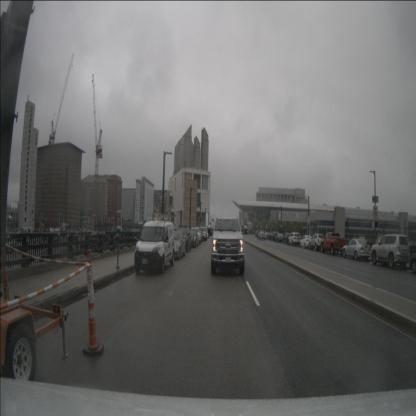movable_object-trafficcone: (82, 249, 104, 357)
vehicle-car: (134, 220, 175, 275), (370, 234, 410, 269), (342, 239, 370, 261), (165, 231, 185, 259), (308, 233, 326, 251), (187, 229, 199, 248), (288, 232, 302, 246), (300, 235, 314, 248), (191, 227, 201, 244), (409, 253, 416, 274), (198, 226, 206, 241), (195, 227, 203, 242), (283, 233, 292, 244), (274, 233, 284, 242), (258, 231, 266, 240), (271, 232, 278, 240), (268, 233, 274, 240), (256, 230, 262, 237), (265, 232, 270, 240)
vehicle-truck: (211, 216, 245, 276), (320, 233, 350, 255)
